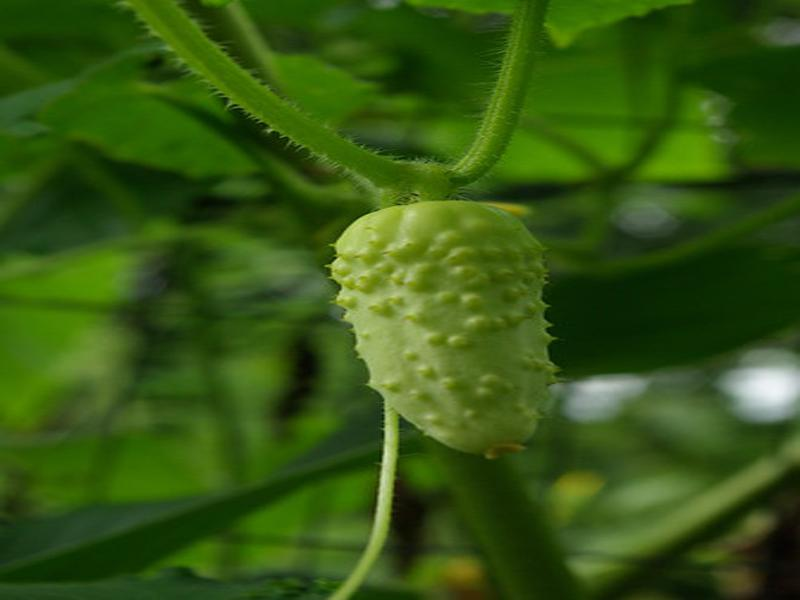Cucumber: (329, 199, 551, 461)
